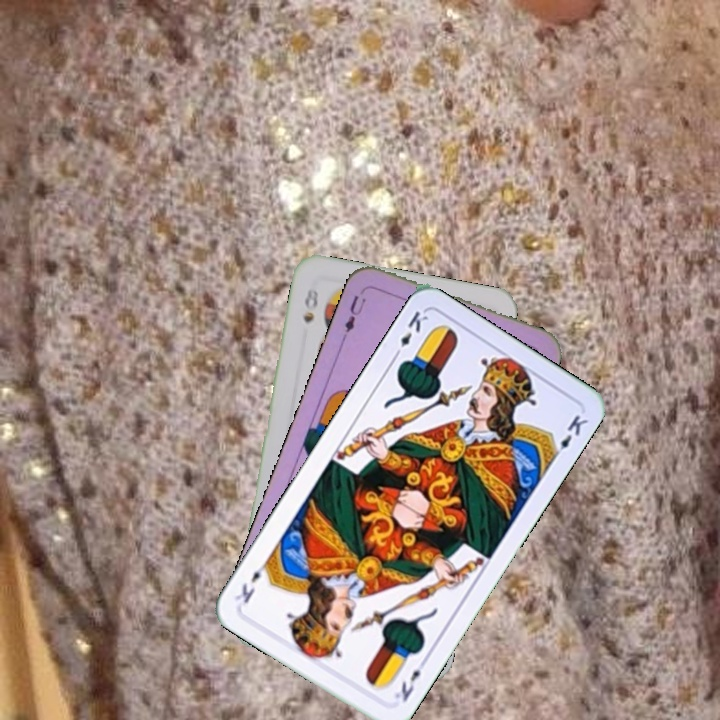EK: (389, 306, 431, 361), (390, 654, 430, 705)
EU: (338, 291, 369, 342)
S8: (299, 283, 321, 326)
